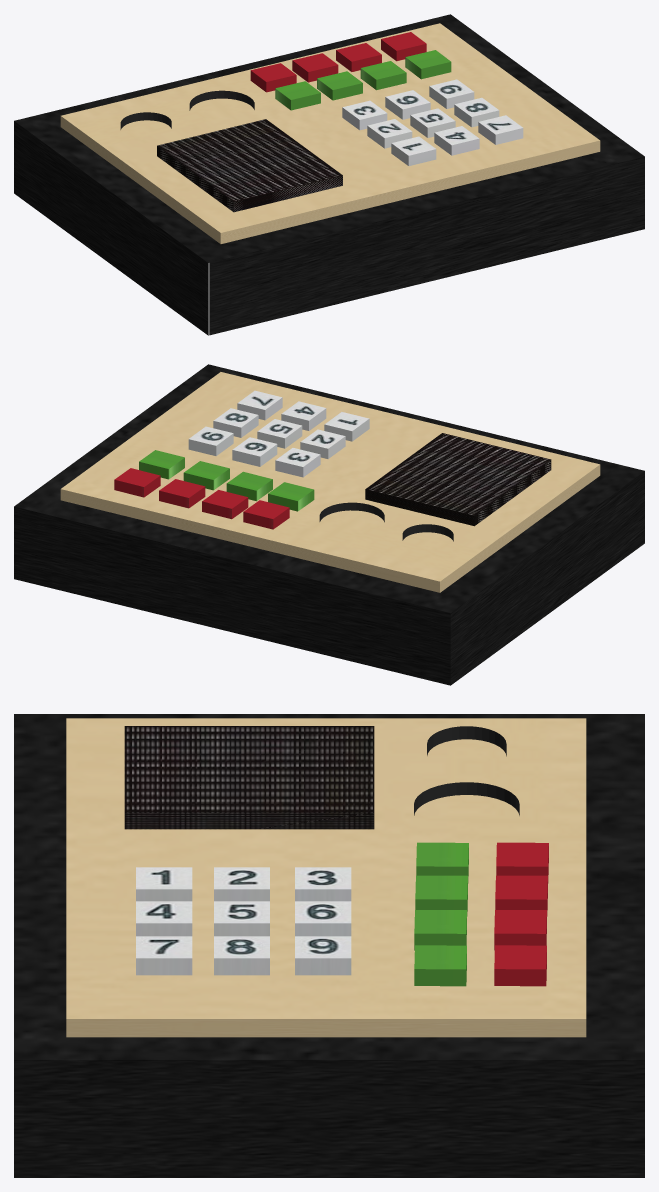
File: comunicador.fbx
The picture shows the model from 3 angles, top to bottom: view 1: azimuth 30°, elevation 25°; view 2: azimuth 150°, elevation 25°; view 3: azimuth 270°, elevation 25°; orthographic projection. The views are drawn at different scales.
Visible parts, largest first — view 1: Cube.004; view 2: Cube.004; view 3: Cube.004.
Boxes of the visible parts, x1,y1,x2,y2 form: Cube.004: [14, 14, 644, 335]; Cube.004: [14, 364, 644, 685]; Cube.004: [14, 714, 644, 1177].
Size of the model in its own units: 364 by 75.03 by 280.
16 materials, 16 textured.
